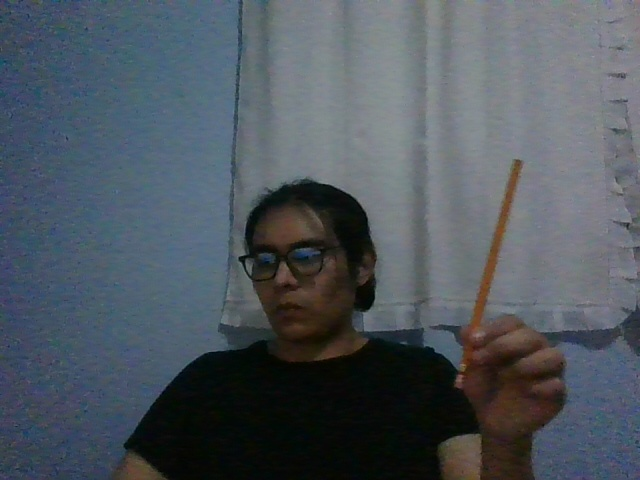lapiz: (454, 159, 524, 390)
